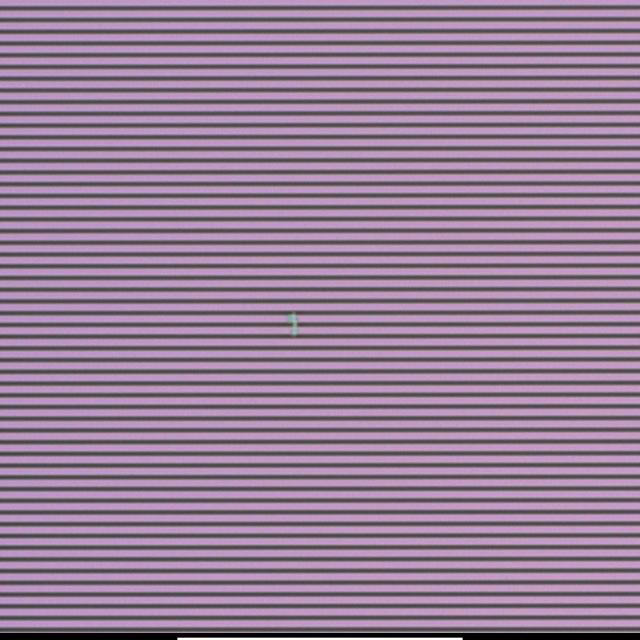03_intrusion: (284, 310, 303, 340)
